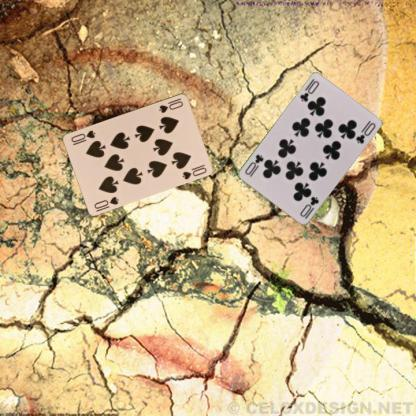10c: (298, 76, 320, 105), (298, 194, 320, 219)
10s: (157, 95, 184, 114), (92, 194, 120, 210)
